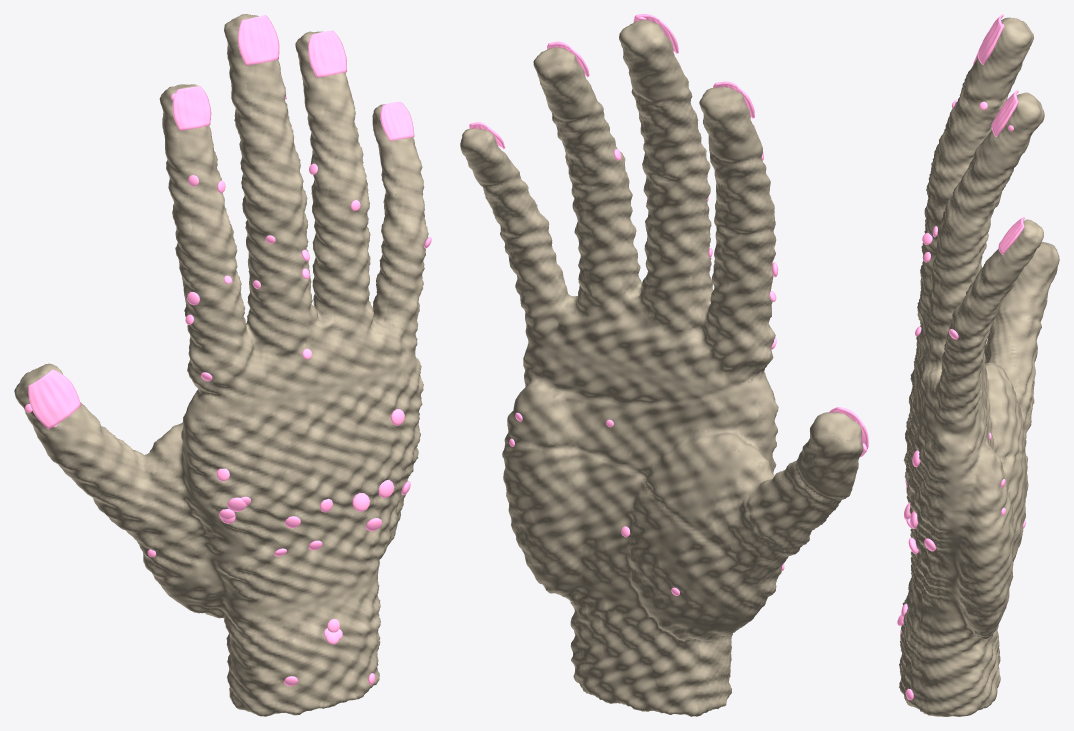
Rendered from family-02.glb.
3 views of the same model, side by side, from view 1: azimuth 30°, elevation 25°; view 2: azimuth 150°, elevation 25°; view 3: azimuth 270°, elevation 25° (orthographic). The views are drawn at different scales.
Parts seen in each view (by area): view 1: fingers__fingers_sculpt, back_of_hand__back_of_hand_sculpt, wrist__wrist_sculpt, fingertips__fingertips_sculpt, palm__palm_sculpt, back_of_hand, nails__thumb_claw, nails__middle_claw, nails__ring_claw, nails__index_claw, fingers, nails__pinky_claw; view 2: fingers__fingers_sculpt, palm__palm_sculpt, wrist__wrist_sculpt, fingertips__fingertips_sculpt; view 3: fingers__fingers_sculpt, palm__palm_sculpt, wrist__wrist_sculpt, fingertips__fingertips_sculpt, back_of_hand__back_of_hand_sculpt, back_of_hand, nails__middle_claw, nails__ring_claw, fingers, nails__pinky_claw.
Boxes of the visible parts, x1,y1,x2,y2 form: fingers__fingers_sculpt: (45,78,428,591); back_of_hand__back_of_hand_sculpt: (185,354,423,609); wrist__wrist_sculpt: (175,556,382,716); fingertips__fingertips_sculpt: (14,14,417,449); palm__palm_sculpt: (164,400,408,602); back_of_hand: (216,409,410,556); nails__thumb_claw: (28,369,81,429); nails__middle_claw: (238,15,279,65); nails__ring_claw: (308,30,346,77); nails__index_claw: (172,85,211,130); fingers: (147,96,431,557); nails__pinky_claw: (380,101,414,140); fingers__fingers_sculpt: (474,73,853,617); palm__palm_sculpt: (502,339,773,627); wrist__wrist_sculpt: (533,574,744,716); fingertips__fingertips_sculpt: (460,19,863,493); fingers__fingers_sculpt: (914,69,1043,498); palm__palm_sculpt: (952,353,1025,629); wrist__wrist_sculpt: (899,577,1000,716); fingertips__fingertips_sculpt: (971,17,1059,313); back_of_hand__back_of_hand_sculpt: (903,358,954,617); back_of_hand: (904,450,935,554); nails__middle_claw: (977,14,1003,64); nails__ring_claw: (991,90,1018,136); fingers: (915,99,987,339); nails__pinky_claw: (998,217,1025,254).
Size of the model in its own units: 0.1315 by 0.2187 by 0.0486.
2 materials, 1 textured.
